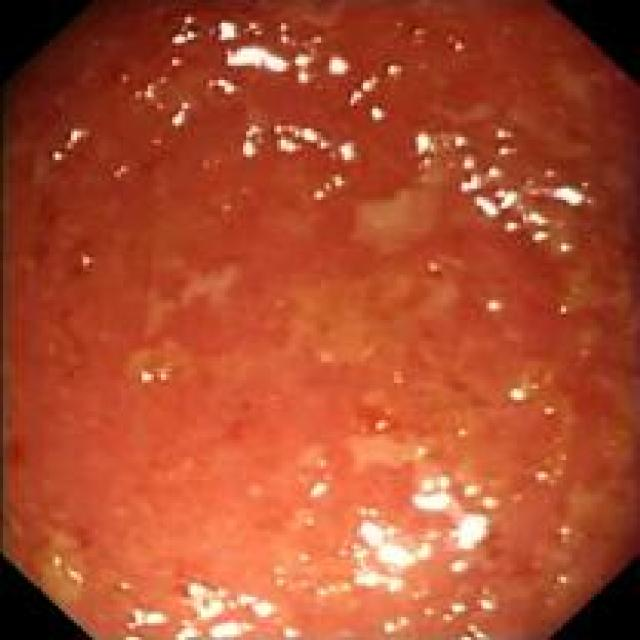specularity: (342, 503, 441, 600), (168, 571, 302, 637), (238, 121, 332, 157), (455, 167, 520, 217), (501, 209, 574, 253), (444, 503, 498, 556), (221, 44, 287, 76), (411, 472, 459, 512), (533, 180, 587, 208), (49, 125, 90, 161), (418, 603, 503, 620), (309, 171, 349, 207), (123, 607, 168, 637), (167, 13, 200, 48), (409, 128, 435, 172), (491, 125, 523, 157), (531, 464, 566, 492), (310, 579, 352, 600), (215, 13, 243, 44), (165, 101, 198, 127), (59, 564, 89, 592), (346, 75, 376, 103), (290, 51, 314, 85), (303, 473, 333, 500), (135, 367, 177, 385), (507, 380, 543, 401), (452, 621, 493, 639), (129, 80, 161, 103), (369, 409, 395, 436), (335, 140, 363, 165), (445, 553, 471, 579), (72, 247, 98, 273), (271, 16, 294, 45), (379, 611, 409, 633), (270, 563, 290, 595), (550, 564, 573, 587), (326, 55, 352, 75), (108, 160, 131, 180), (551, 519, 574, 539), (482, 296, 507, 313), (243, 16, 261, 39), (47, 551, 67, 571), (383, 57, 405, 75), (293, 573, 313, 592), (310, 453, 330, 472), (366, 101, 386, 120), (480, 493, 503, 508), (458, 152, 475, 172), (540, 399, 557, 419), (455, 129, 471, 147), (554, 300, 571, 315), (113, 579, 132, 592), (294, 549, 309, 565), (461, 480, 475, 497)
